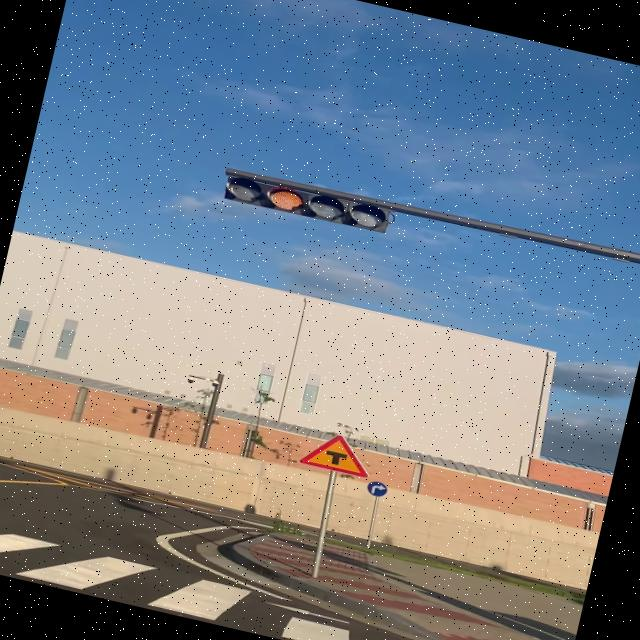yellow_light: (222, 172, 392, 236)
